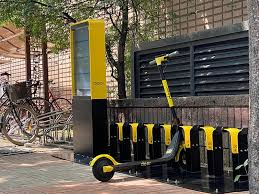kick_handler: (148, 51, 179, 65)
kick_wheel: (92, 155, 114, 179)
